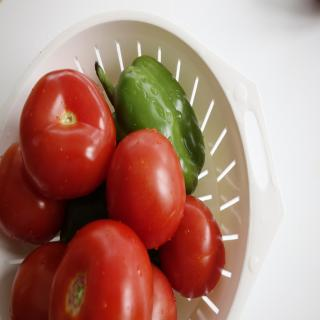tomato: (19, 66, 118, 200), (47, 216, 155, 320), (106, 124, 186, 248), (157, 192, 227, 298), (0, 141, 64, 249), (8, 242, 72, 319), (149, 266, 178, 319)
